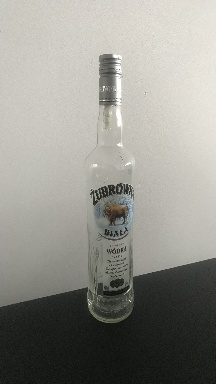butelka: (82, 49, 135, 326)
